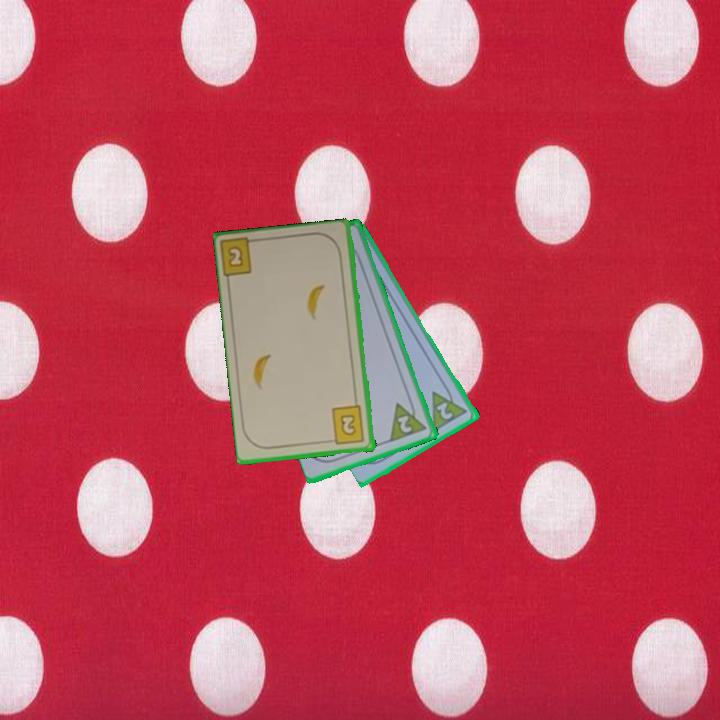2b: (219, 236, 263, 281), (326, 403, 367, 447)
2p: (428, 381, 471, 434), (394, 412, 416, 436)
